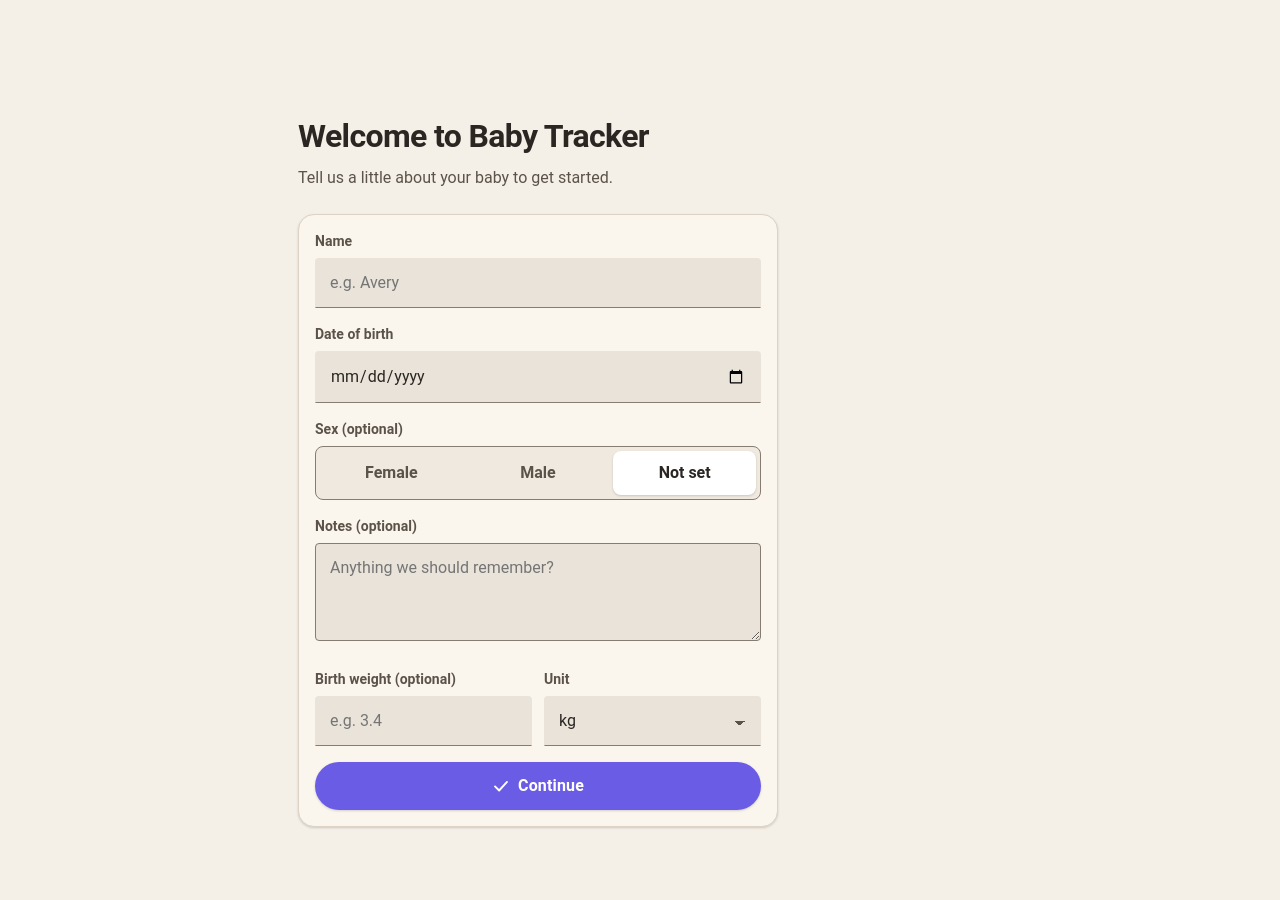
Test: PDF report section selection › disables sections with no records in the period and leaves them unchecked
This screenshot has width=1280, height=900.
Step 1. Type "Avery" into the field labelled "Name" → [538, 283], box [315,258,761,308]
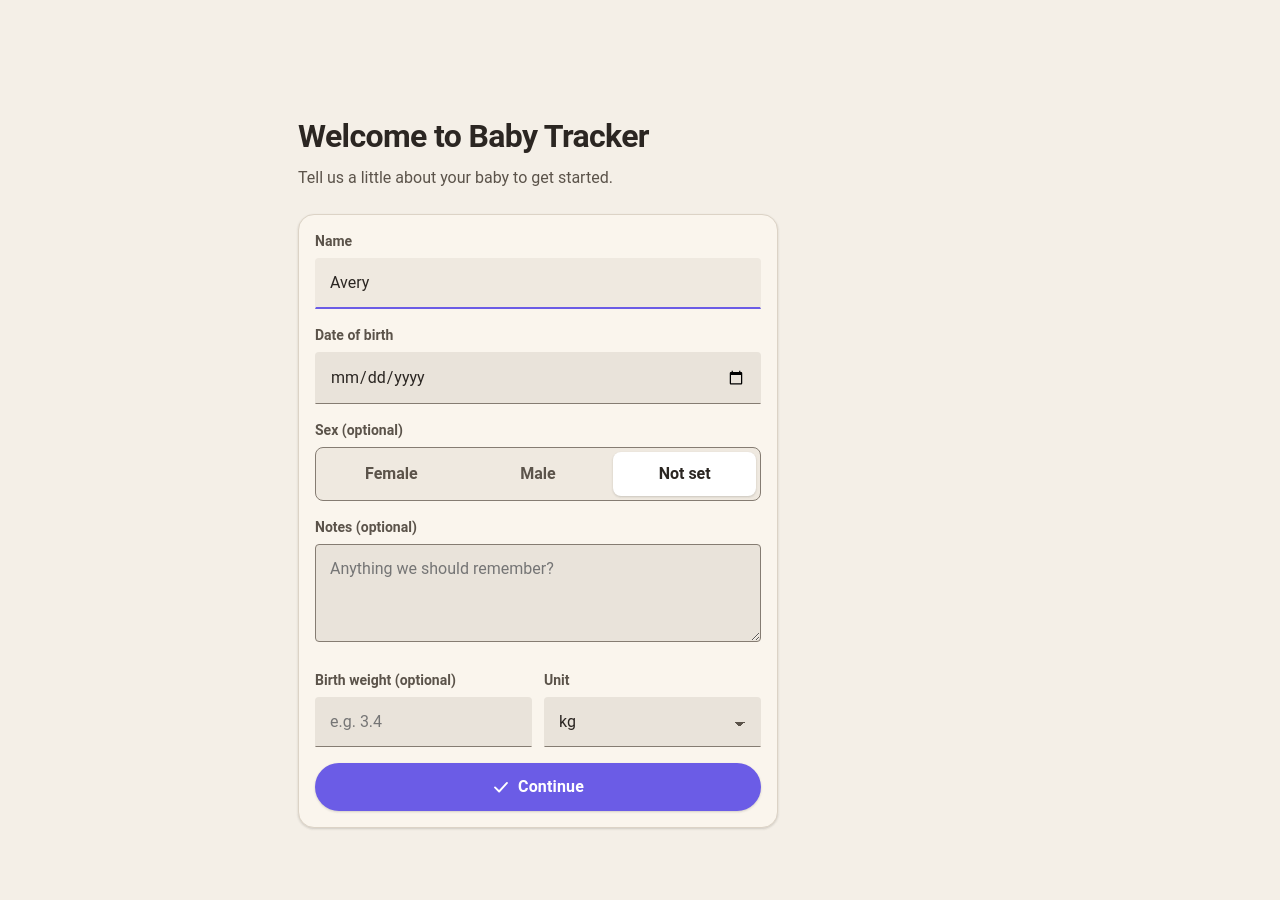
Step 2. Type "2026-01-15" into the date field labelled "Date of birth" → [538, 378], box [315,352,761,404]
Step 3. Click the button "Continue" → [538, 787], box [315,763,761,811]
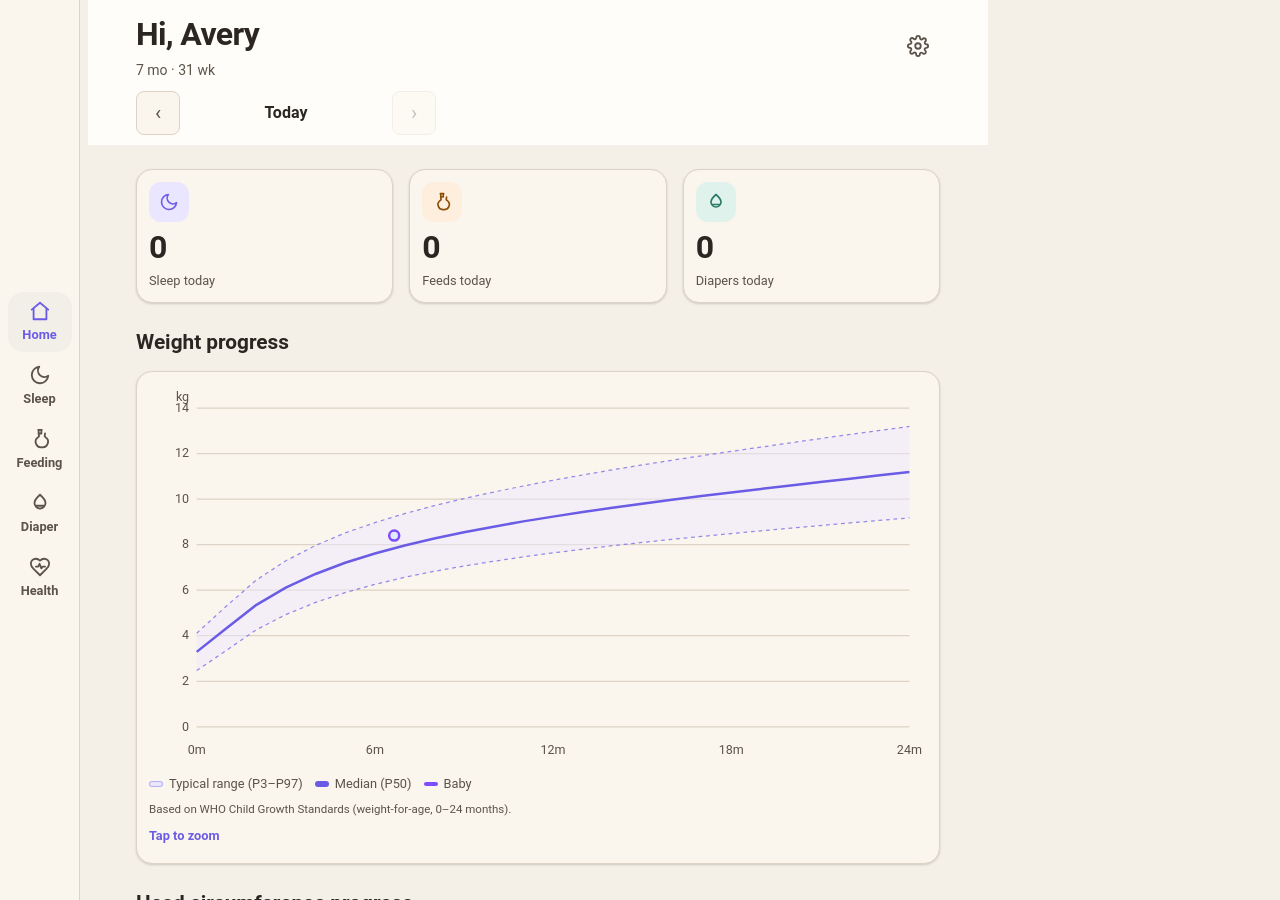
Step 4. Click the button named "settings" → [918, 46], box [896,24,940,68]
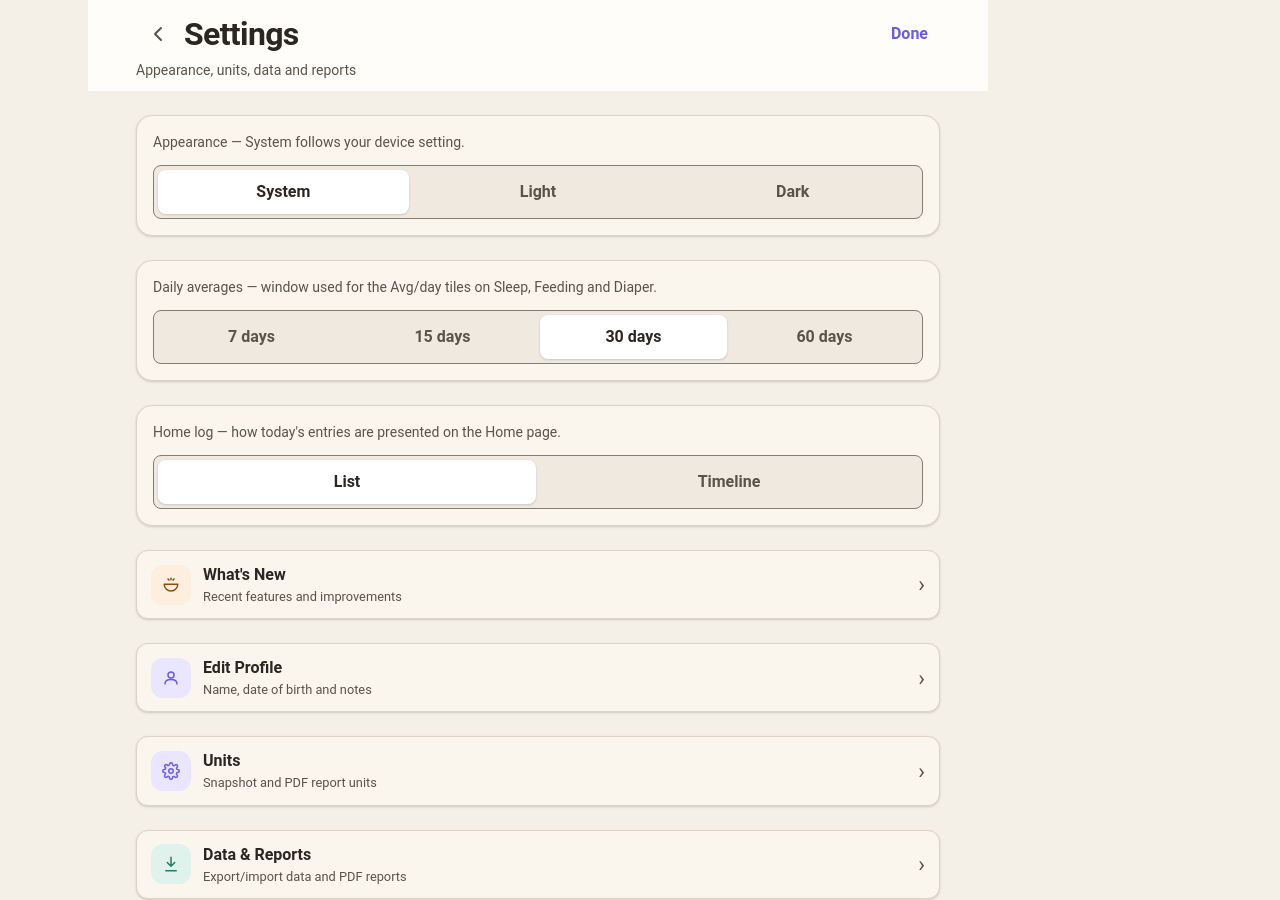
Step 5. Click the button "Data & reports Export/import data and PDF reports ›" → [171, 864], box [136,830,940,899]
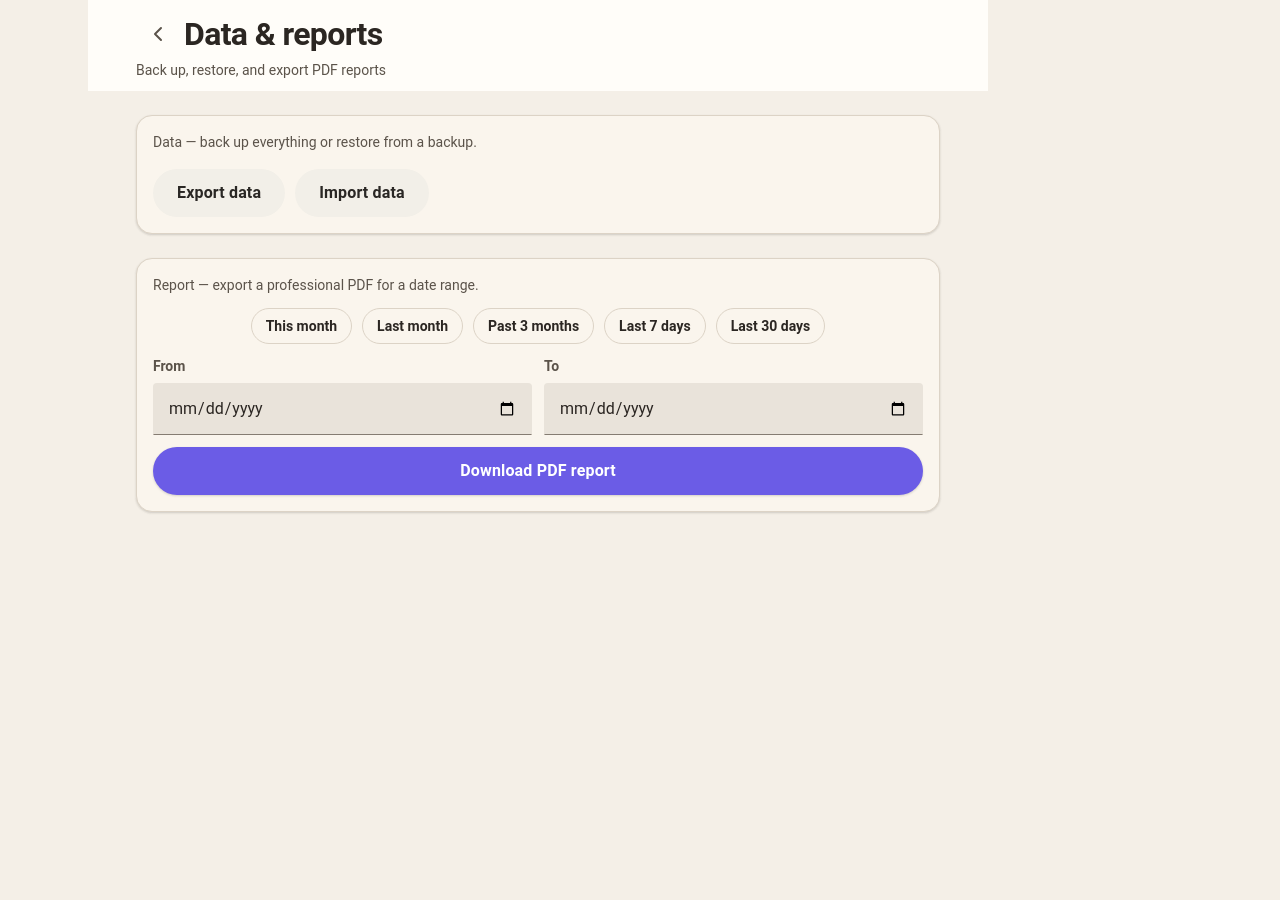
Step 6. Type "2026-08-01" into the date field labelled "From" → [342, 409], box [153,383,532,435]
Step 7. Type "2026-08-08" into the date field labelled "To" → [734, 409], box [544,383,923,435]
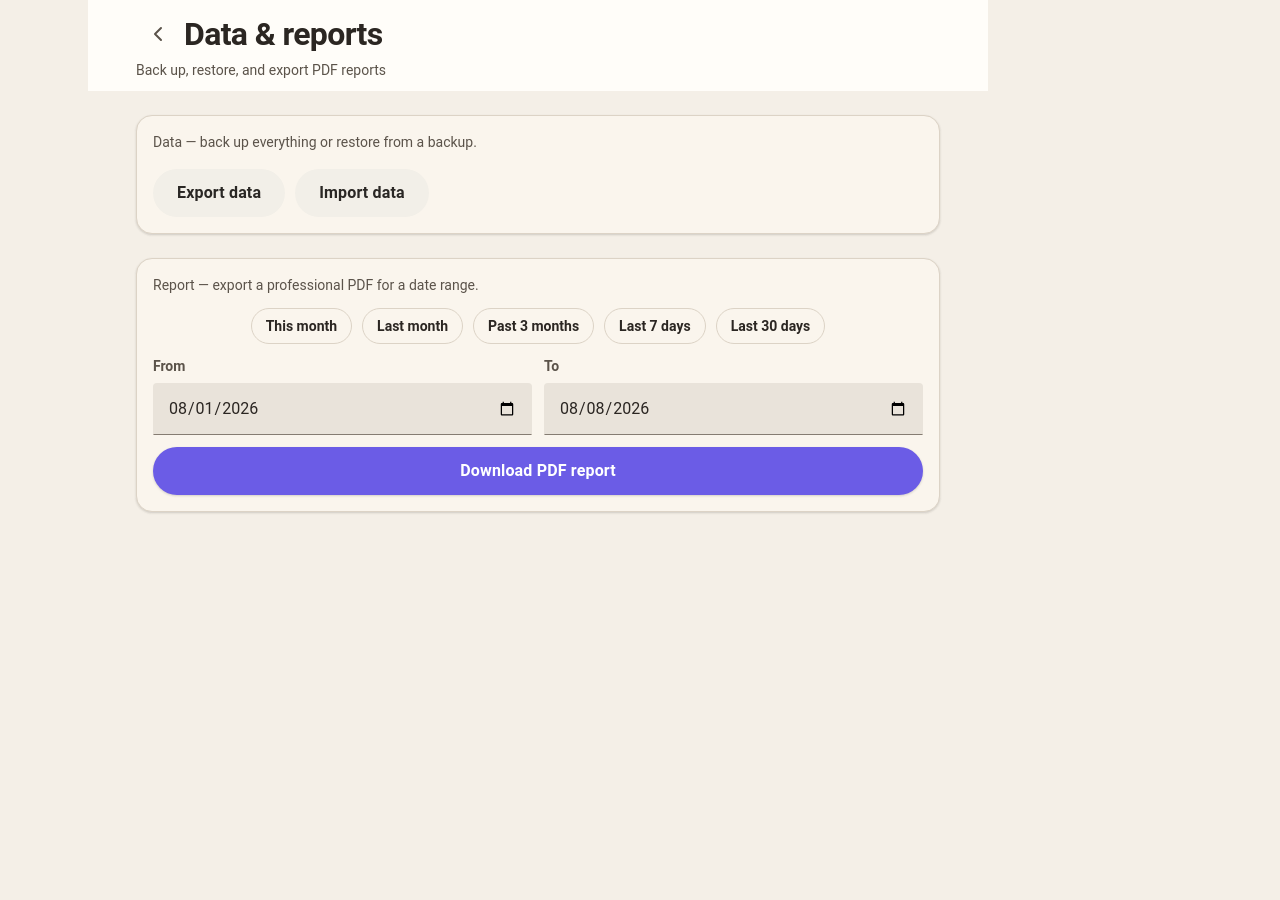
Step 8. Click the button "Download PDF report" → [538, 471], box [153,447,923,495]
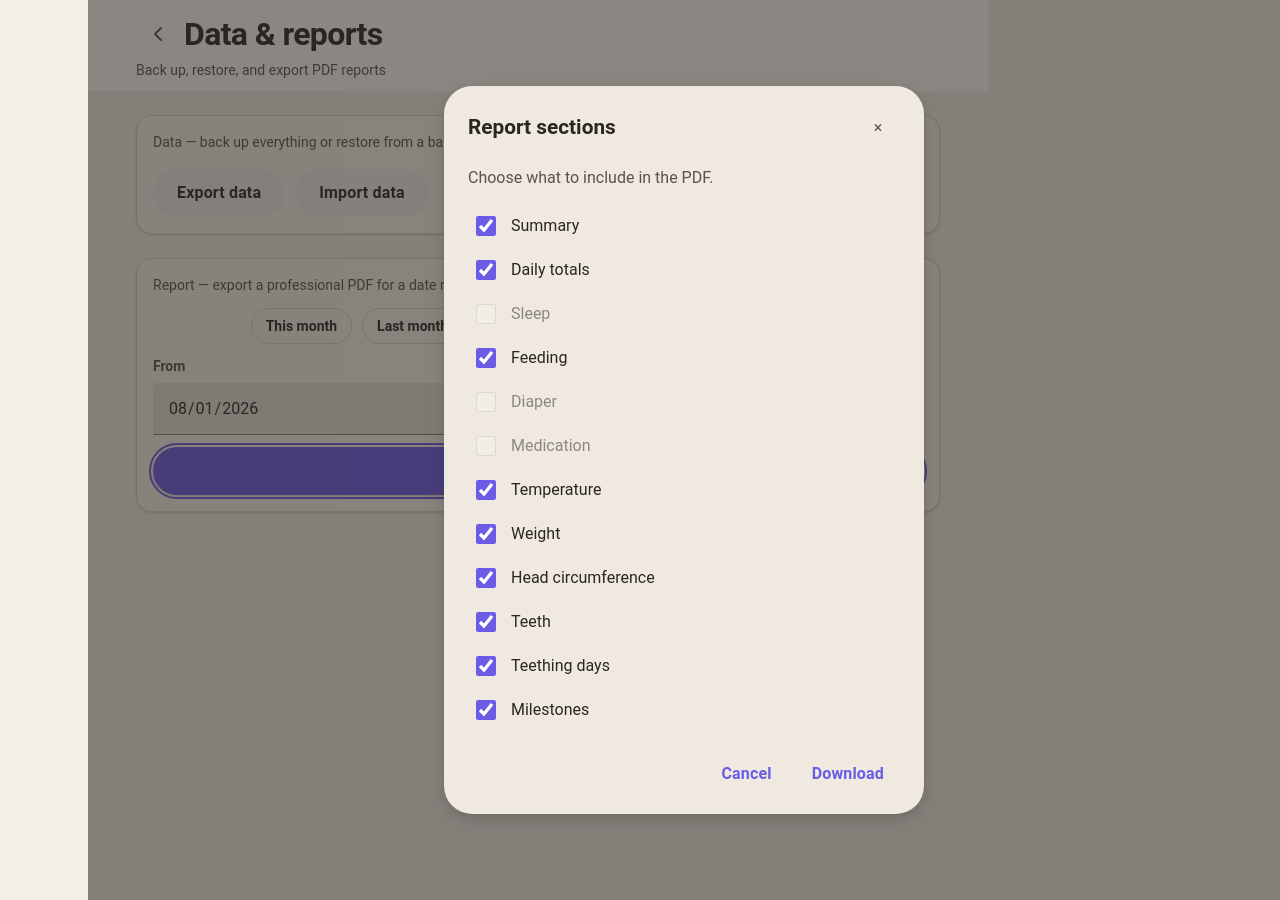
Now the checkbox labelled "Feeding" is enabled, box [476,348,496,368]
Now the checkbox labelled "Feeding" is checked, box [476,348,496,368]
Now the checkbox labelled "Summary" is enabled, box [476,216,496,236]
